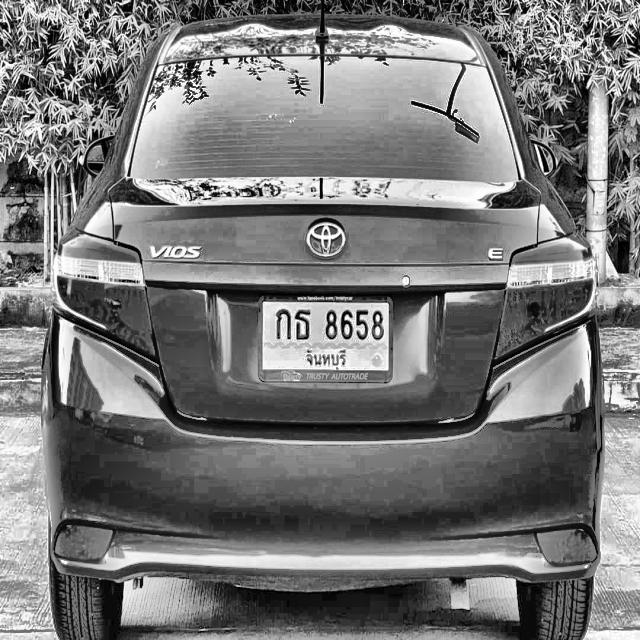license-plate: (256, 290, 394, 386)
